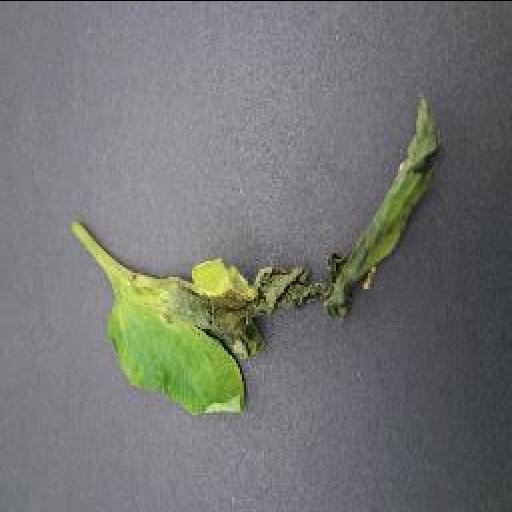disease_tomato: (102, 90, 450, 418)
